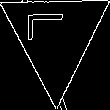L_E: (33, 21, 78, 53)
